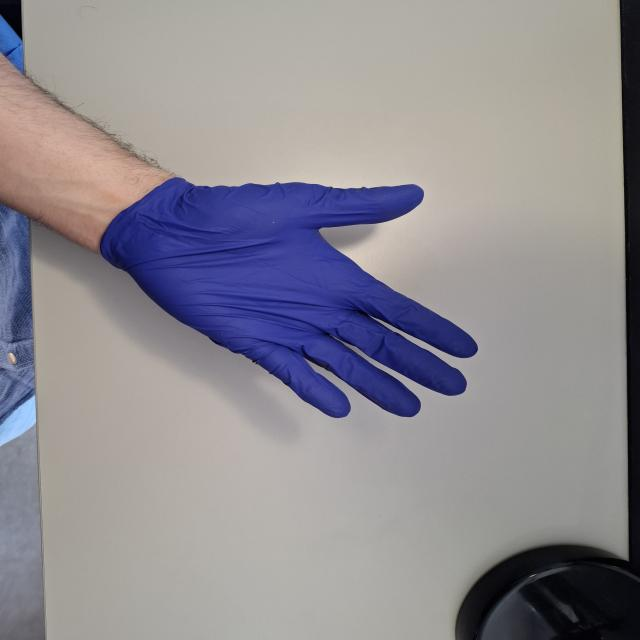glove_on: (93, 168, 483, 423)
